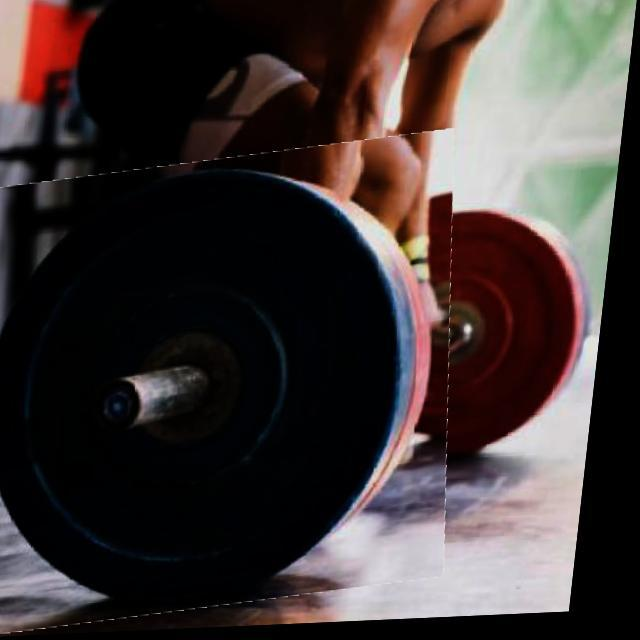barbell: (1, 143, 487, 630)
